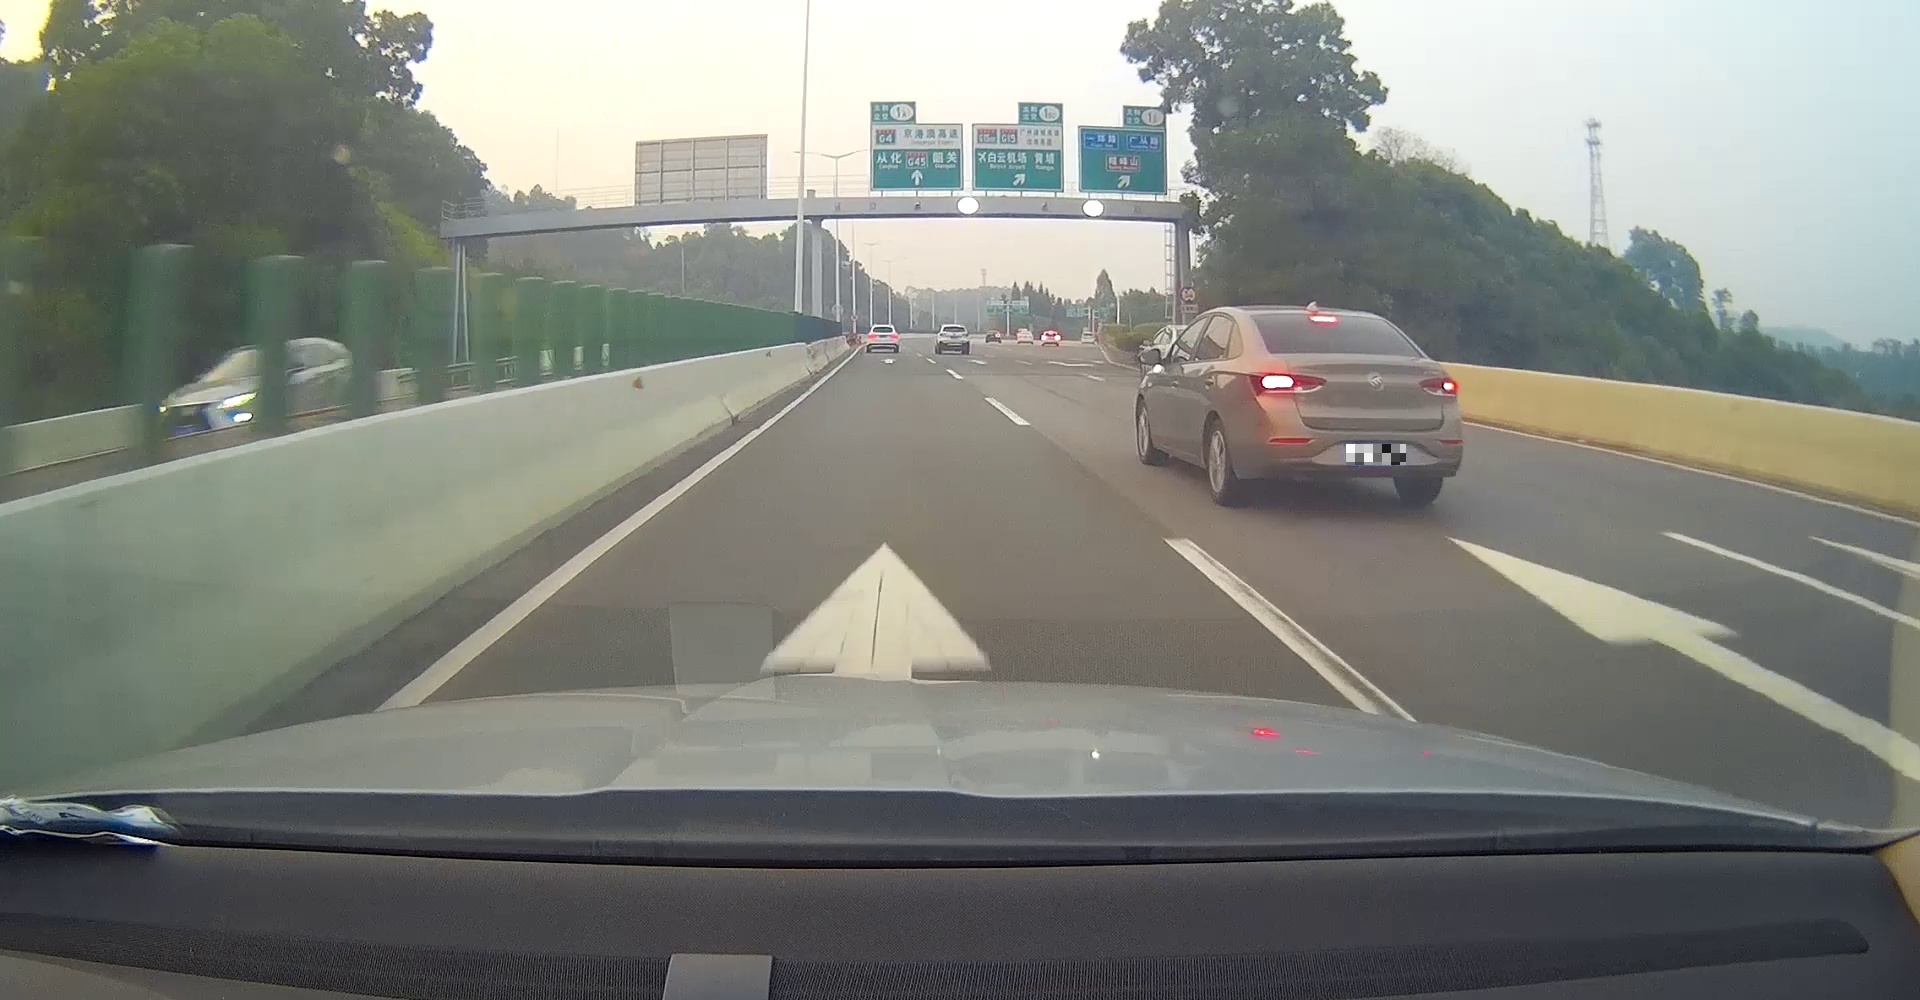L_light: (1250, 372, 1326, 395), (940, 332, 946, 336), (869, 334, 874, 338)
R_light: (1418, 377, 1457, 396), (891, 334, 897, 338), (964, 332, 968, 336)
T_light: (1310, 316, 1336, 322)
day-brake: (1242, 310, 1463, 505)
day-no: (938, 325, 969, 354), (867, 325, 899, 353)
plate_1: (1346, 444, 1406, 464)
